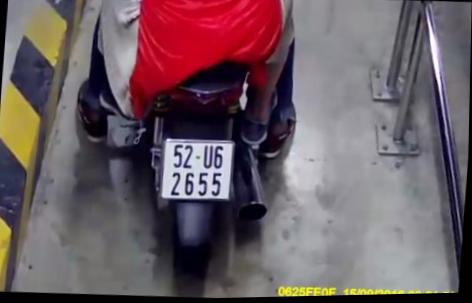LP: (156, 135, 238, 206)
